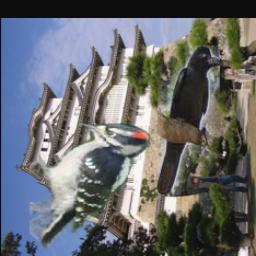Crow: (159, 46, 221, 195)
Woodpecker: (31, 119, 152, 249)
